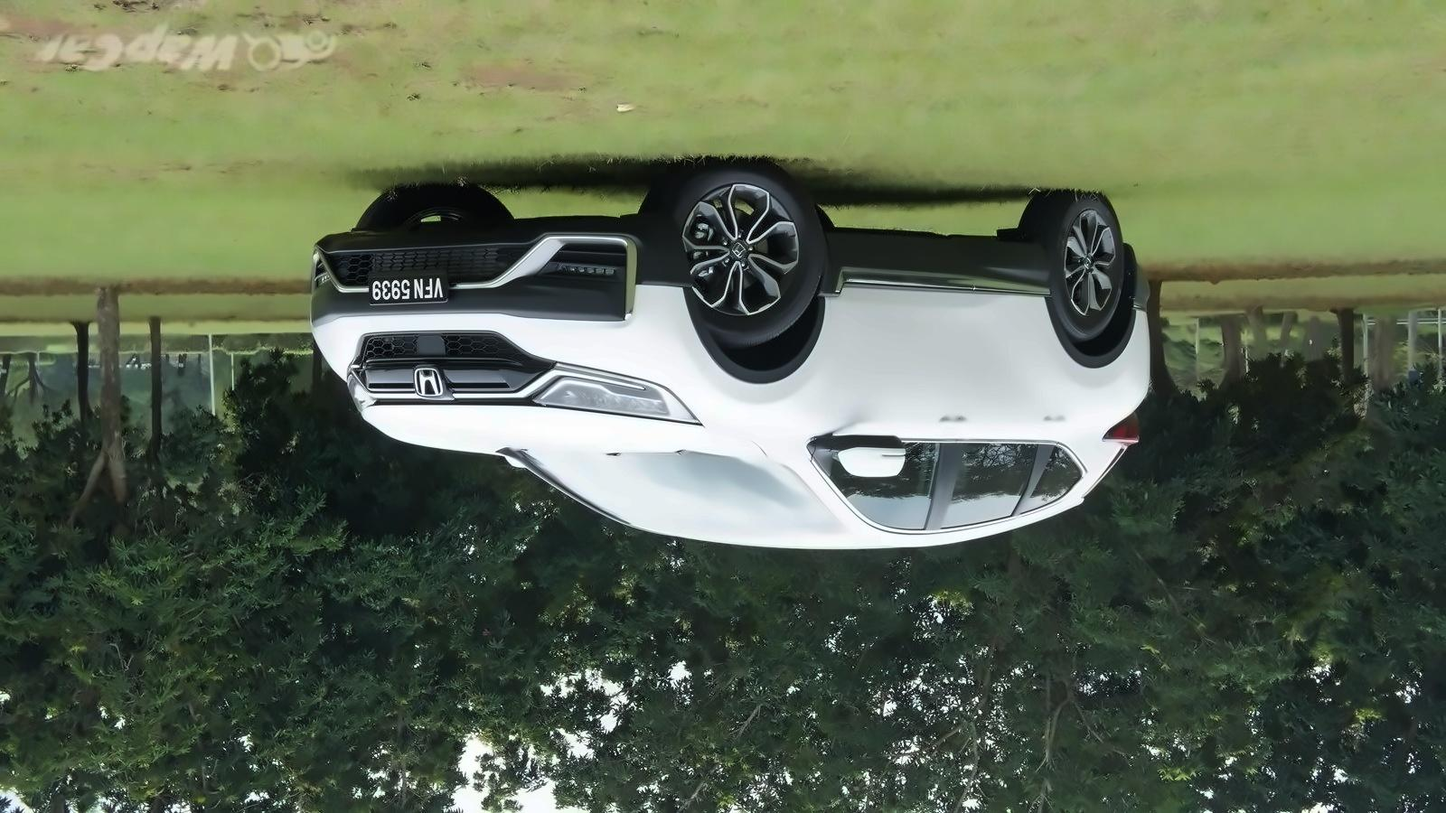Car hood: (358, 398, 769, 463)
Driver-s door - -F-R-: (801, 229, 970, 559)
Fender - -F-R-: (660, 223, 858, 469)
Fender - -R-R-: (1021, 254, 1149, 480)
Front bumper: (300, 209, 709, 344)
Headlight - -L-: (341, 363, 380, 410)
Headlight - -R-: (522, 364, 701, 426)
Passenger-s door - -R-R-: (908, 223, 1076, 566)
Rear light - -R-: (1099, 396, 1156, 452)
Side bumper - -R-: (816, 235, 1072, 335)
Side mirror - -R-: (805, 429, 912, 491)
